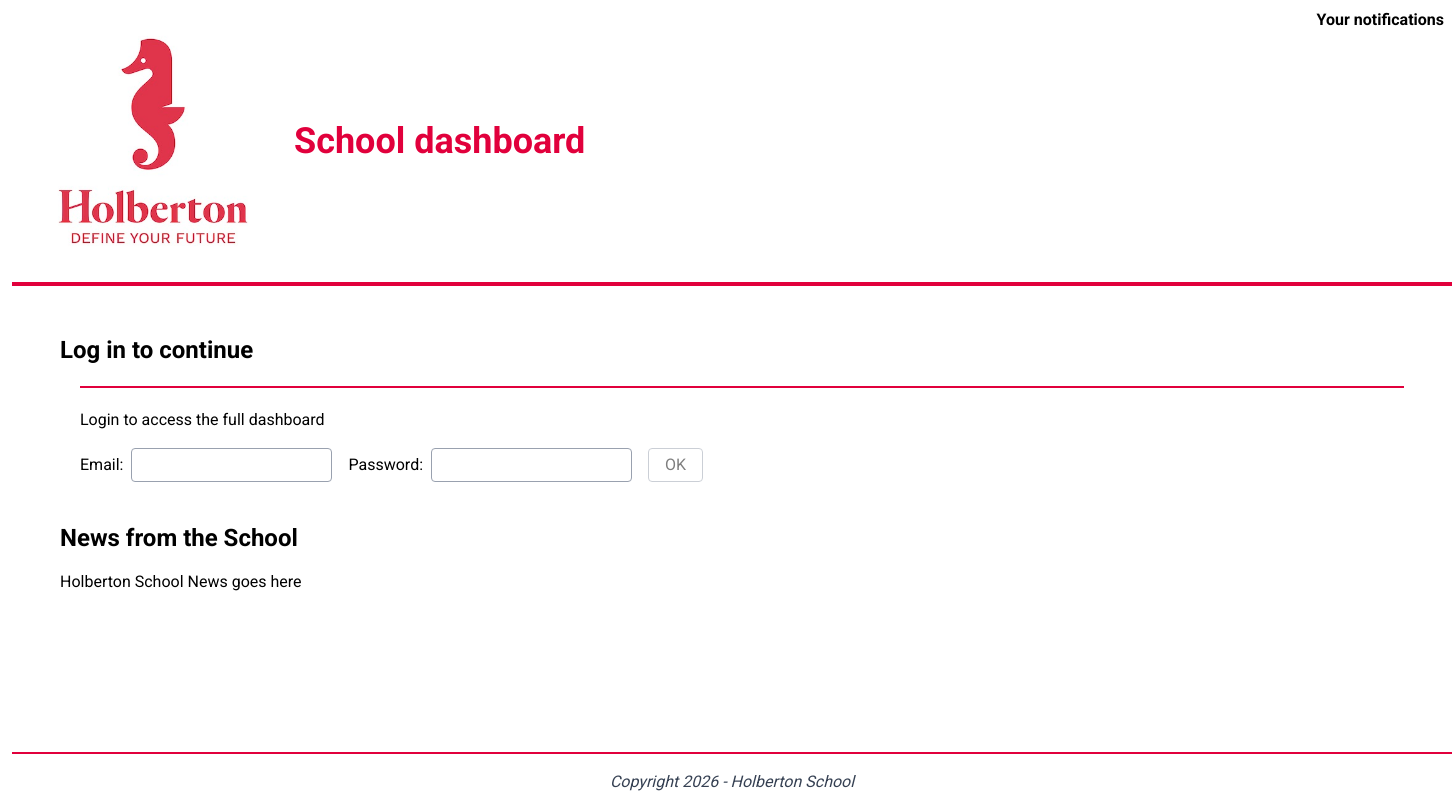
Scenario: App Component › Keyboard shortcuts (Ctrl + H) › should log out and return to login screen after pressing Ctrl+H
The width and height of the screenshot is (1452, 801).
Type "test@test.com" into the field labelled "Email:" at (232, 465), box [132,448,332,482]
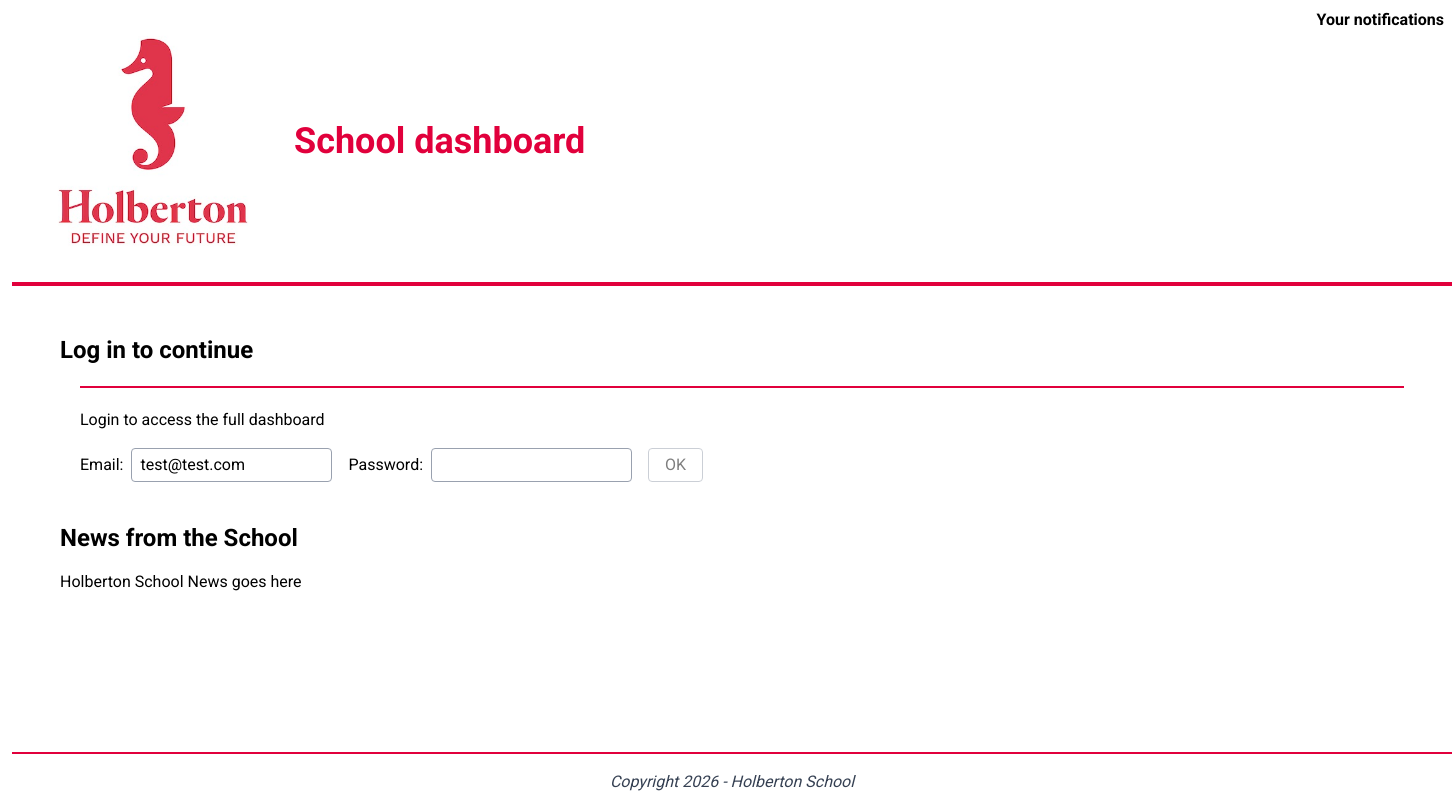
Type "password123" into the password field labelled "Password:" at (532, 465), box [431,448,632,482]
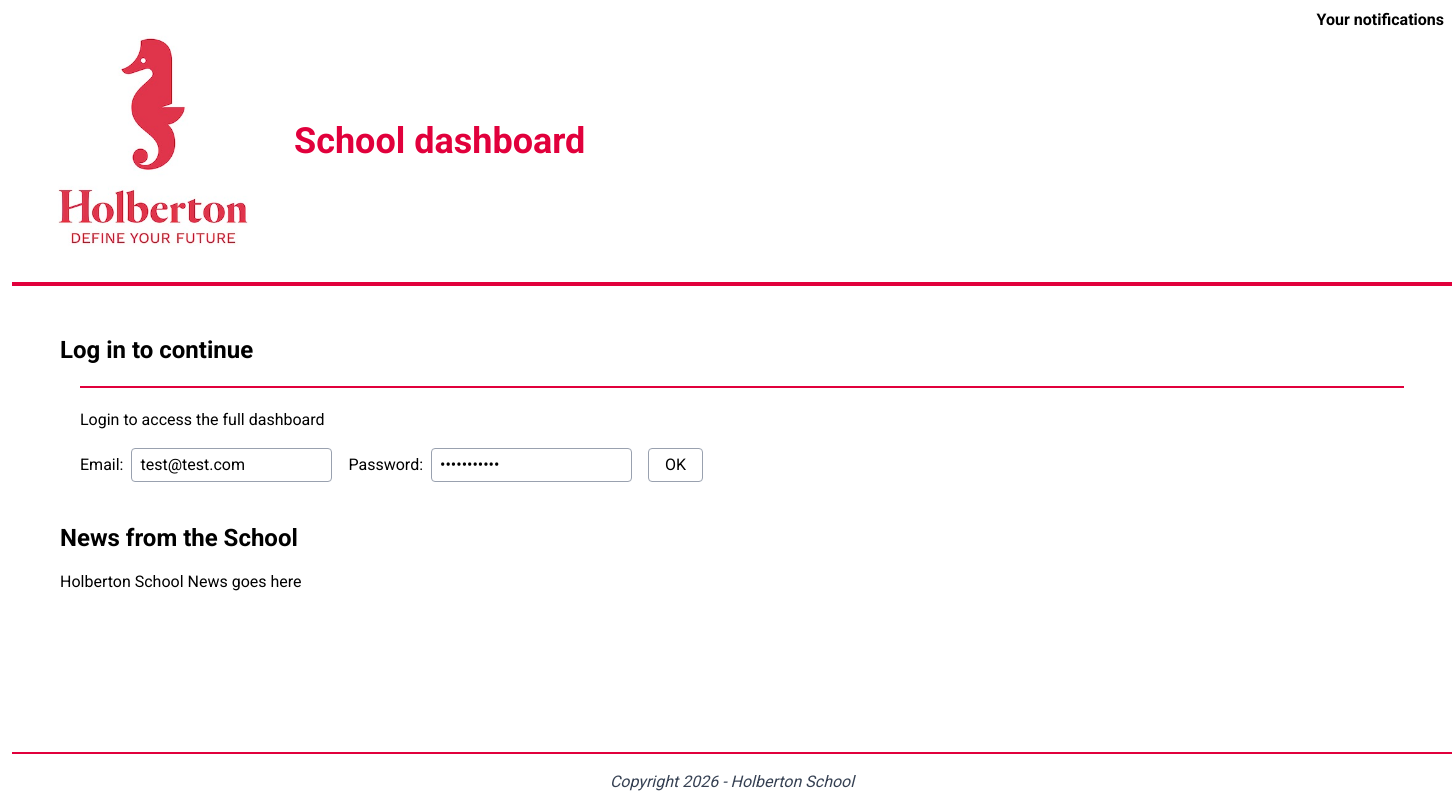
Click the button "OK" at (676, 465), box [648,448,703,482]
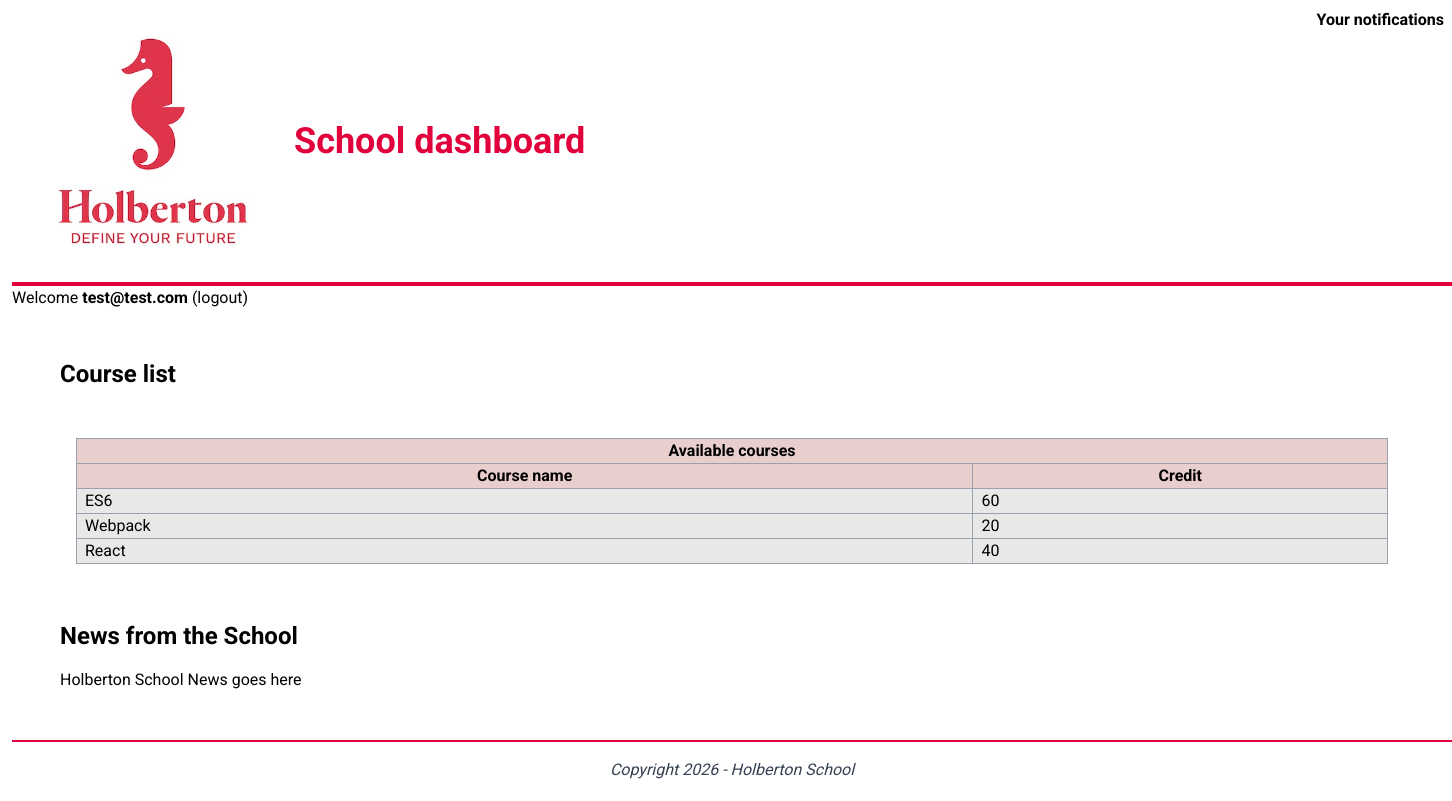
Expected: the table is shown, [76,438,1388,564]
Type keys "{Control>}h{/Control}"
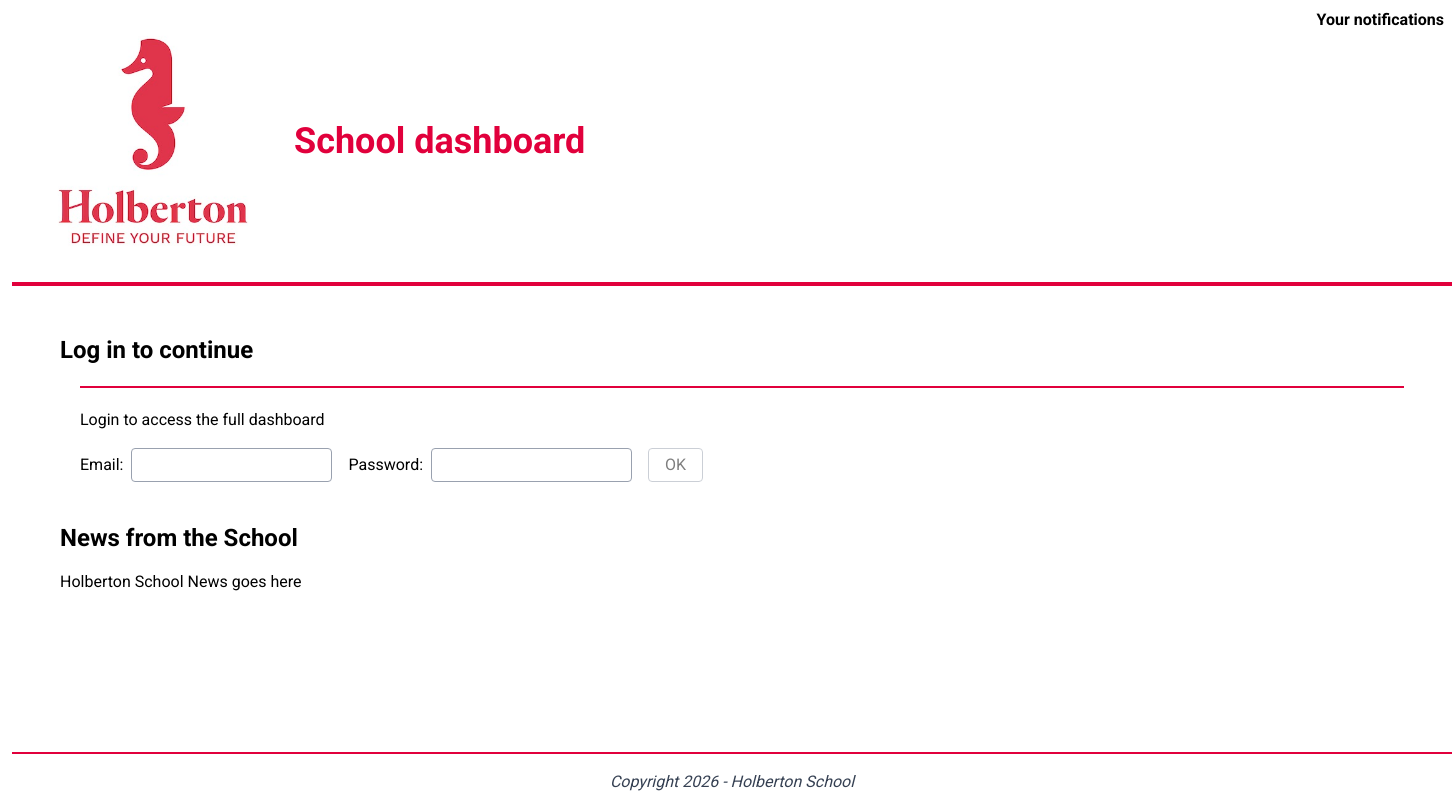
Expected: the text "Login to access the full dashboard" is shown, [80,410,325,429]
Expected: the table is gone
